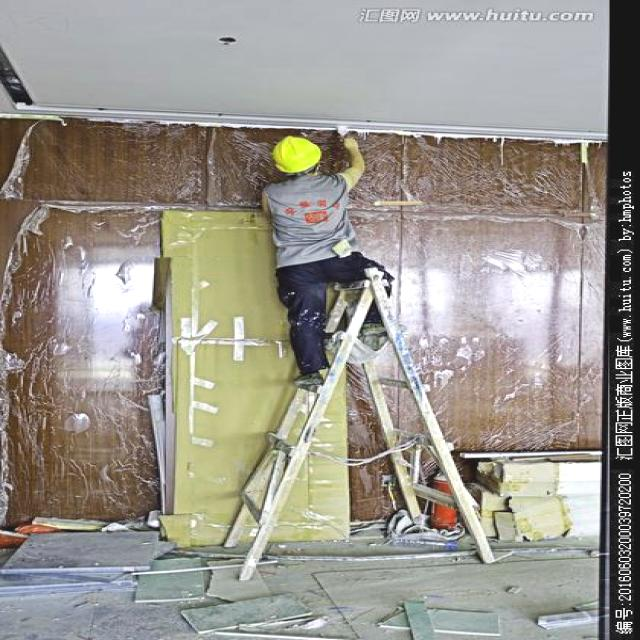hand_glove: (331, 119, 364, 143)
head_helmet: (271, 133, 325, 173)
person: (257, 124, 410, 367)
shoes: (288, 365, 332, 389)
